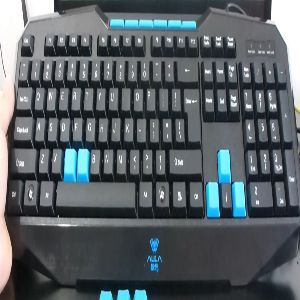keyboard: (8, 11, 300, 277)
